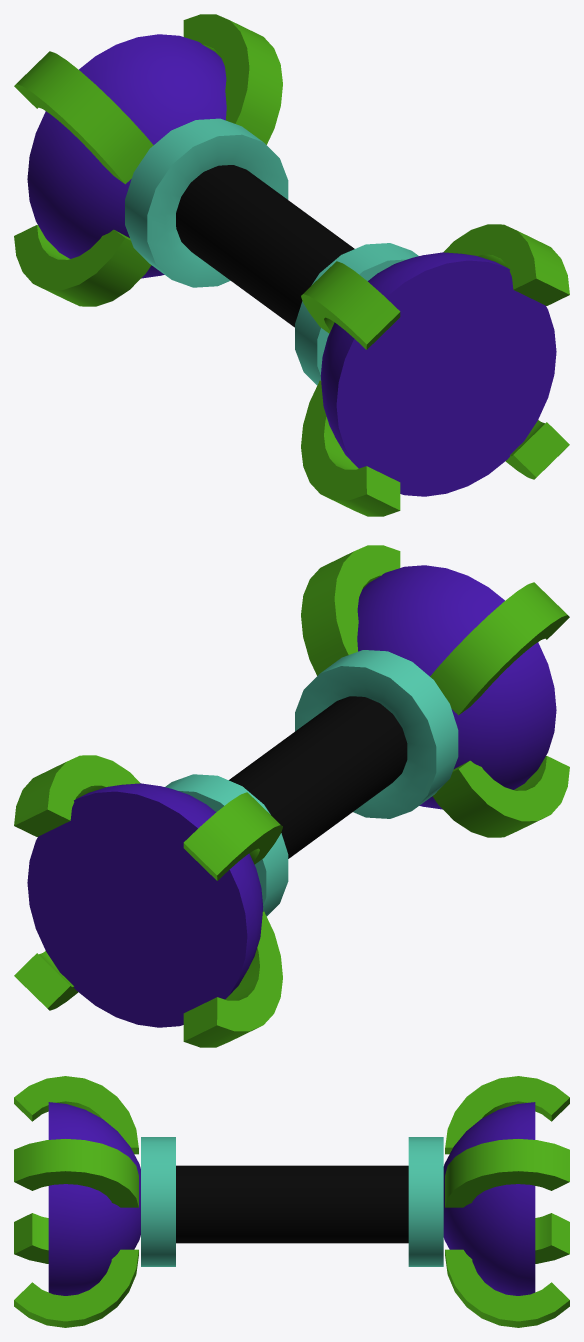
The model's file is Nuclear_Bomb.fbx.
3 views of the same model, one above another, from view 1: azimuth 30°, elevation 25°; view 2: azimuth 150°, elevation 25°; view 3: azimuth 270°, elevation 25° (orthographic). The views are drawn at different scales.
Visible parts, largest first — view 1: Nuclear_Bomb; view 2: Nuclear_Bomb; view 3: Nuclear_Bomb.
Boxes of the visible parts, x1,y1,x2,y2 form: Nuclear_Bomb: (14, 14, 569, 516); Nuclear_Bomb: (14, 545, 569, 1047); Nuclear_Bomb: (14, 1076, 569, 1327).
Bounding box in the file's own units: 99.53 × 99.03 × 264.
